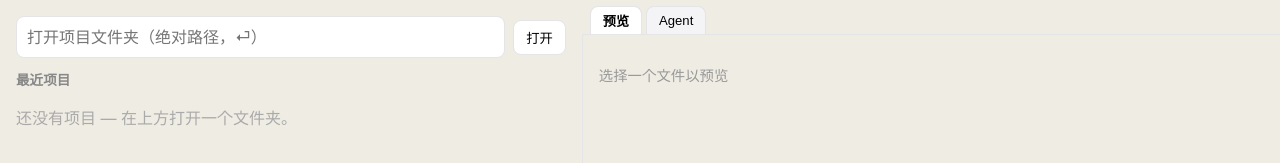
Test: CockpitView › toggles the right pane between 预览 and Agent
The image size is (1280, 163).
Step 1. Click the tab "Agent" → click(676, 20), box [646,6,706,34]
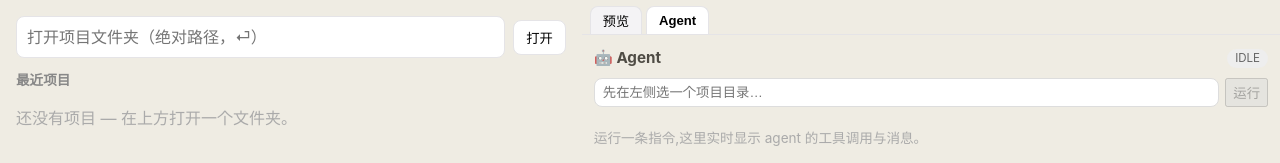
Now the field named "Agent 指令" is shown, box [594,78,1219,107]
